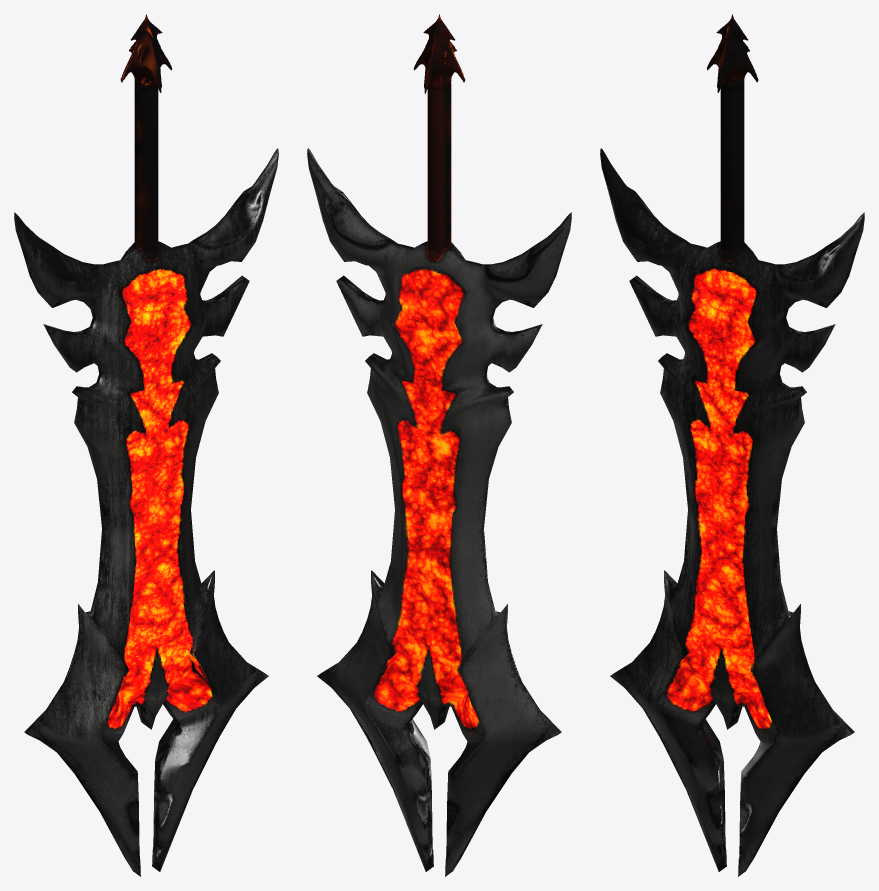
The model's file is HextechEricCatarina_813809LowPoly.fbx.
3 renders of one model, left to right at view 1: azimuth 30°, elevation 25°; view 2: azimuth 150°, elevation 25°; view 3: azimuth 330°, elevation 25°, orthographic.
Visible parts, largest first — view 1: MetalSwordLowPoly; view 2: MetalSwordLowPoly; view 3: MetalSwordLowPoly.
Boxes of the visible parts, x1,y1,x2,y2 form: MetalSwordLowPoly: (14,14,278,876); MetalSwordLowPoly: (307,14,571,876); MetalSwordLowPoly: (600,14,864,876).
Size of the model in its own units: 414 by 1288 by 78.51.
Materials: 1 (1 with a texture image).
